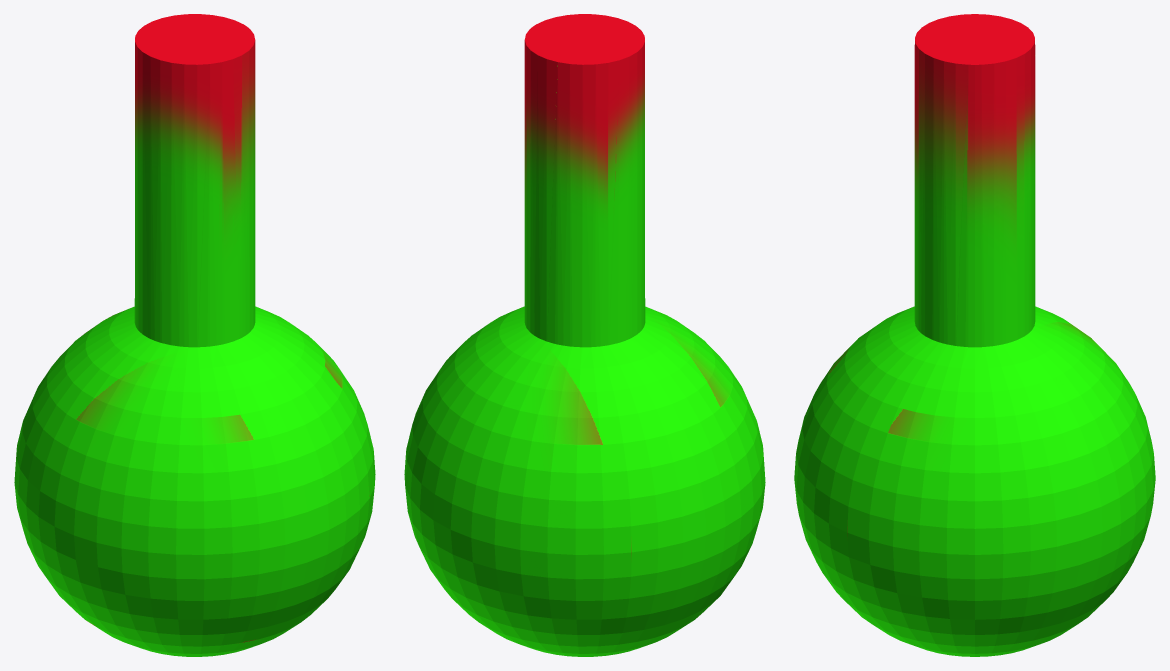
Rendered from blob.dae.
3 views of the same model, side by side, from view 1: azimuth 30°, elevation 25°; view 2: azimuth 150°, elevation 25°; view 3: azimuth 270°, elevation 25° (orthographic).
Visible parts, largest first — view 1: Blob; view 2: Blob; view 3: Blob.
Boxes of the visible parts, x1,y1,x2,y2 form: Blob: (14, 14, 375, 656); Blob: (404, 14, 765, 656); Blob: (794, 14, 1155, 656).
Size of the model in its own units: 3 by 3 by 5.5.
1 material, 1 textured.
